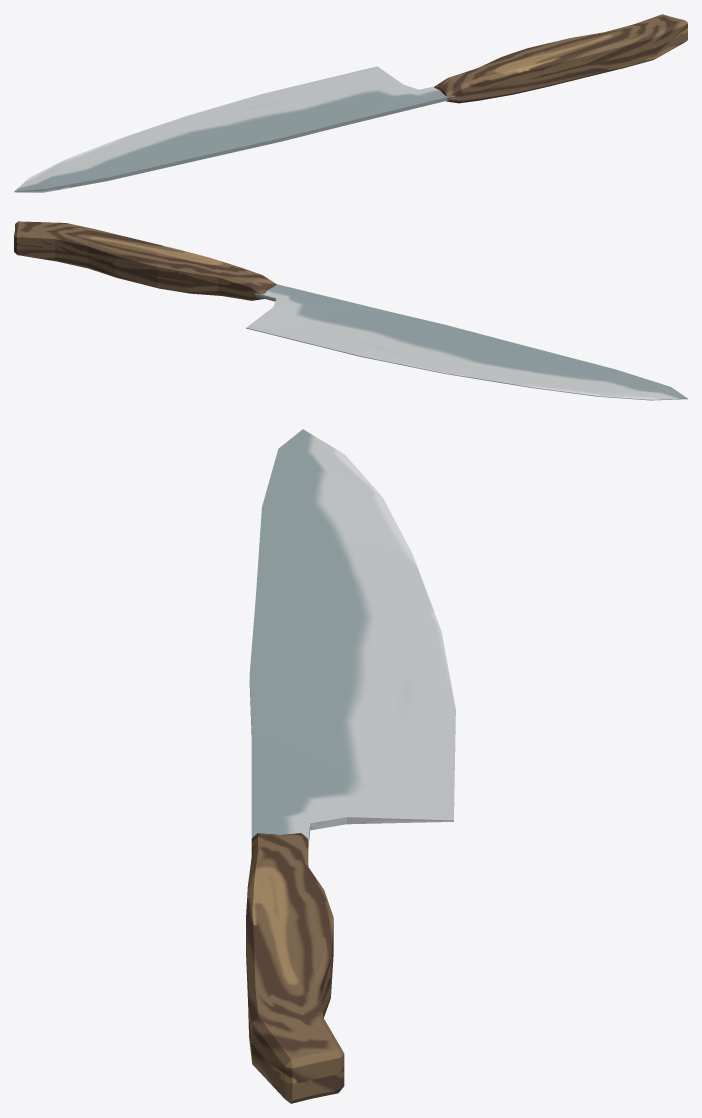
Rendered from upgradedKnife.fbx.
3 views of the same model, one above another, from view 1: azimuth 30°, elevation 25°; view 2: azimuth 150°, elevation 25°; view 3: azimuth 270°, elevation 25° (orthographic). The views are drawn at different scales.
Parts seen in each view (by area): view 1: knife; view 2: knife; view 3: knife.
Boxes of the visible parts, box(x1,y1,x2,y2) form: knife: box(14, 14, 687, 192); knife: box(14, 221, 687, 400); knife: box(246, 429, 455, 1103).
Size of the model in its own units: 1480 by 55.96 by 200.
Materials: 1 (1 with a texture image).
